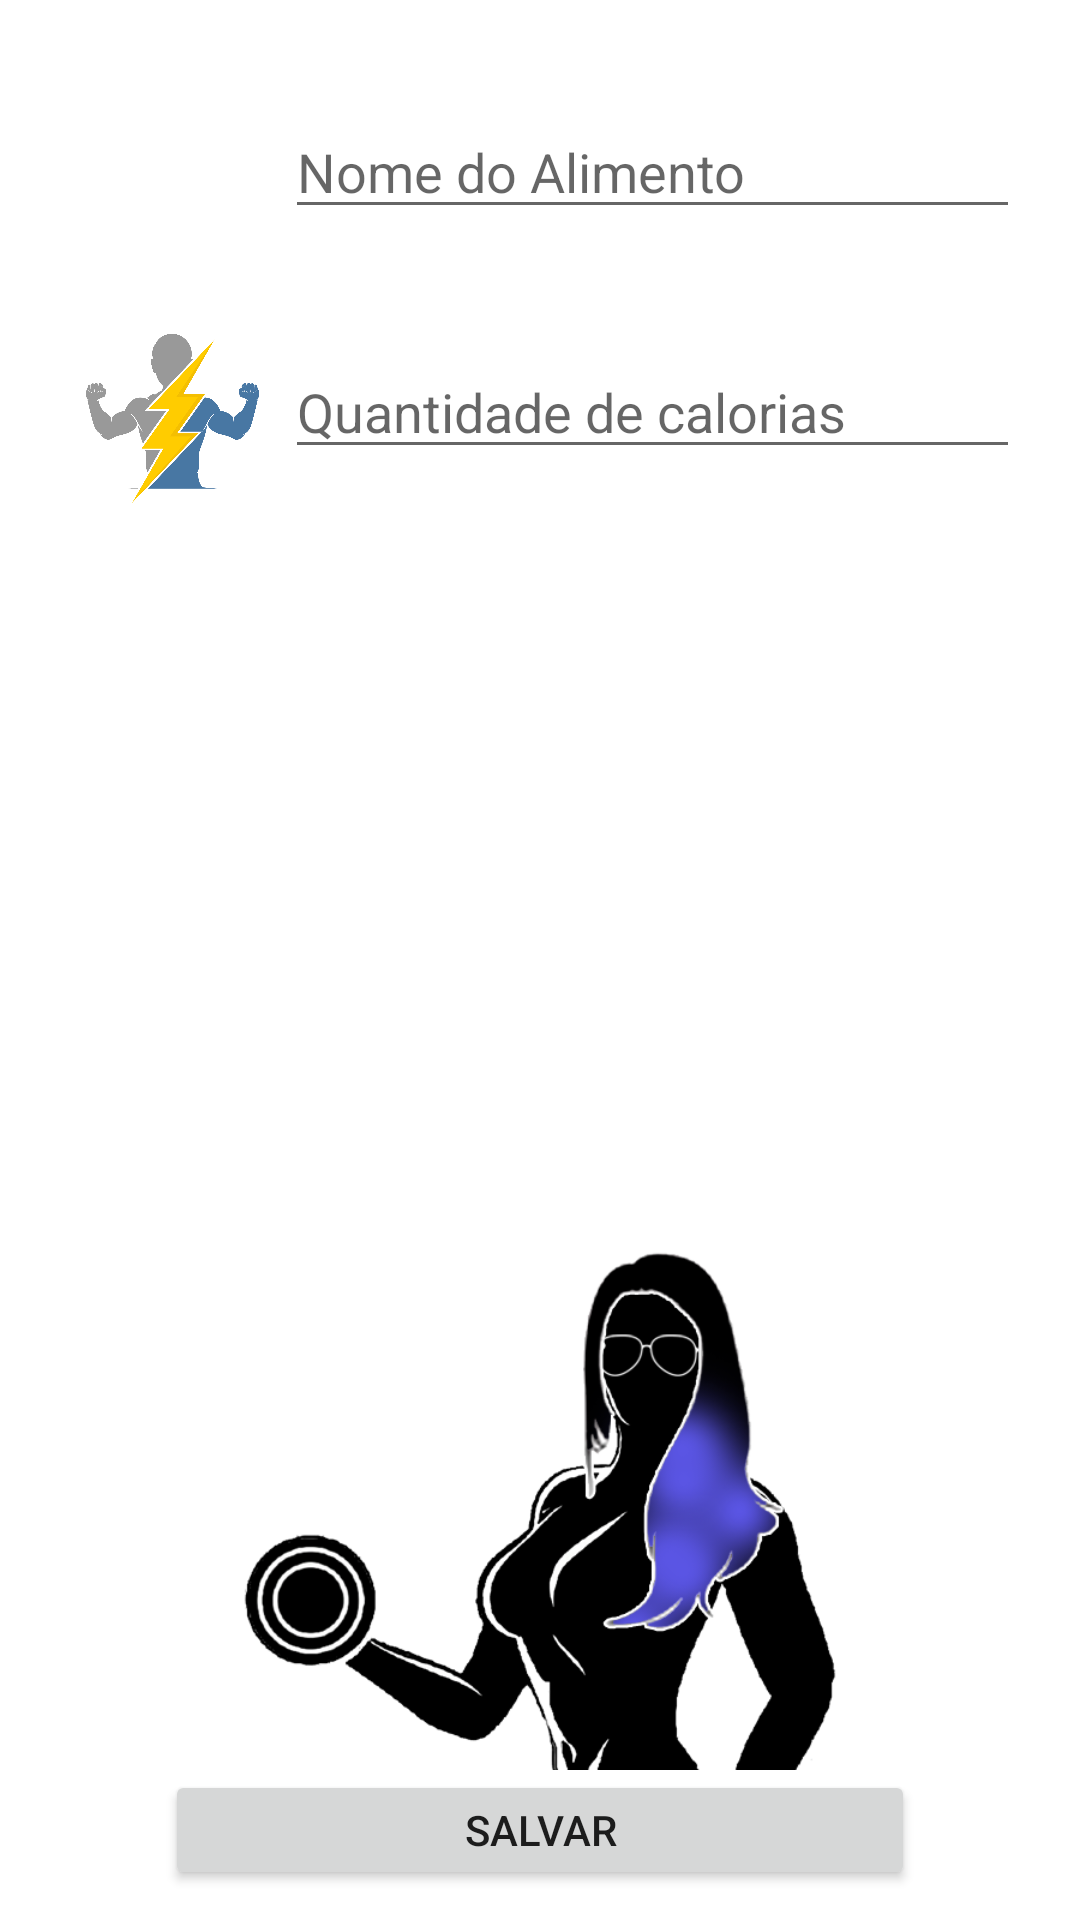

Locate icon controls on the screen. Image size 1080*1920, boxes as region(x1, y1, x2, y2).
energy: region(86, 334, 259, 503)
